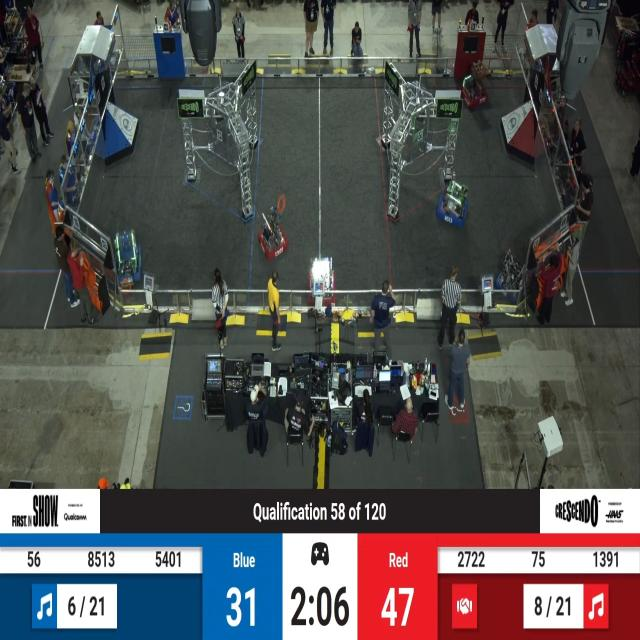Note: (274, 190, 288, 216)
Robot: (108, 219, 149, 292), (305, 248, 345, 311), (493, 242, 528, 310), (257, 198, 291, 264), (438, 177, 470, 233), (459, 60, 489, 112)
